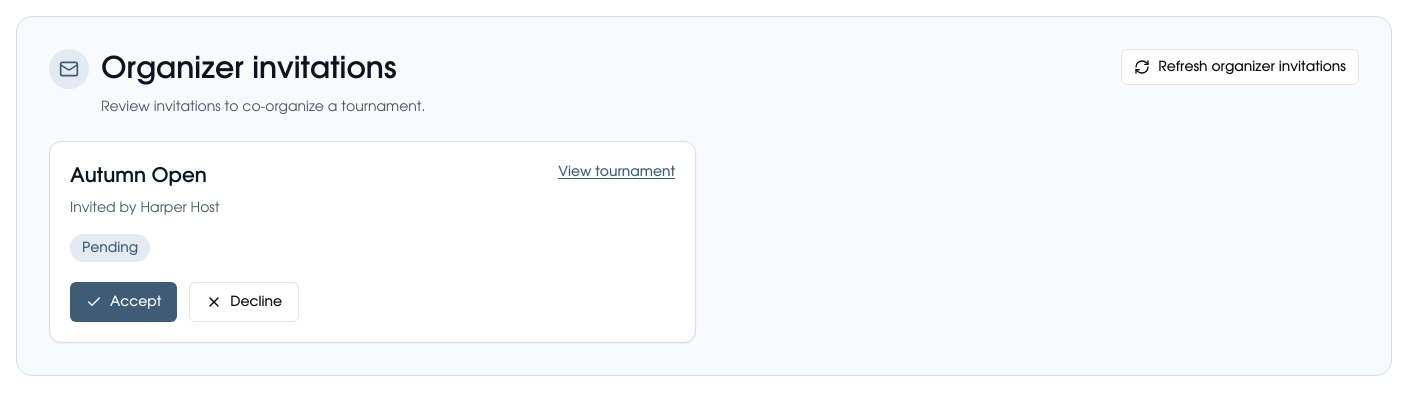
Test: OrganizerInvitationInbox › declines and then shows the refreshed declined status
The image size is (1409, 393).
Click the button with aria-label "Decline invitation to Autumn Open": {"x": 244, "y": 302} [189, 282, 299, 322]
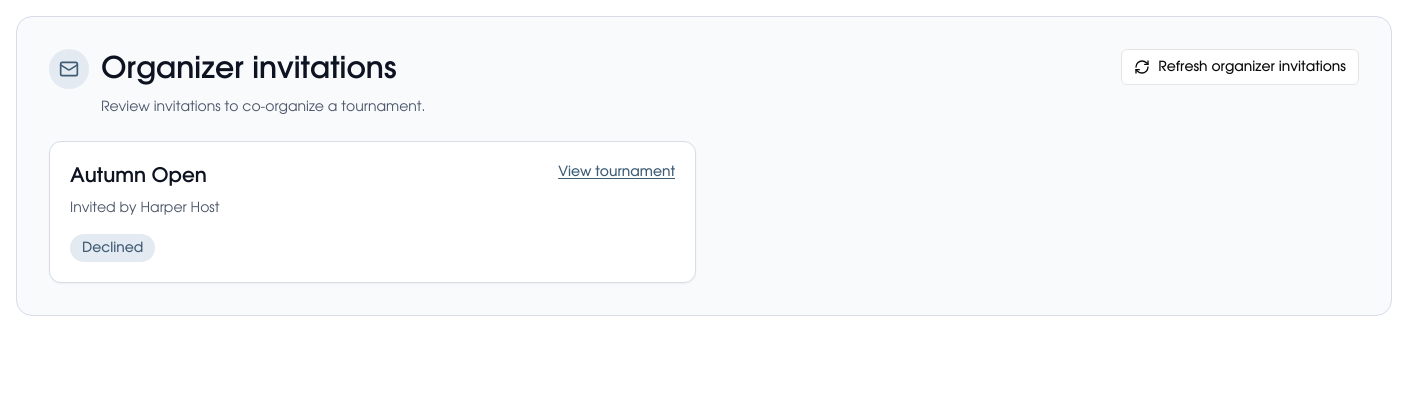
Now the text "Declined" is shown, box [70, 234, 155, 262]
